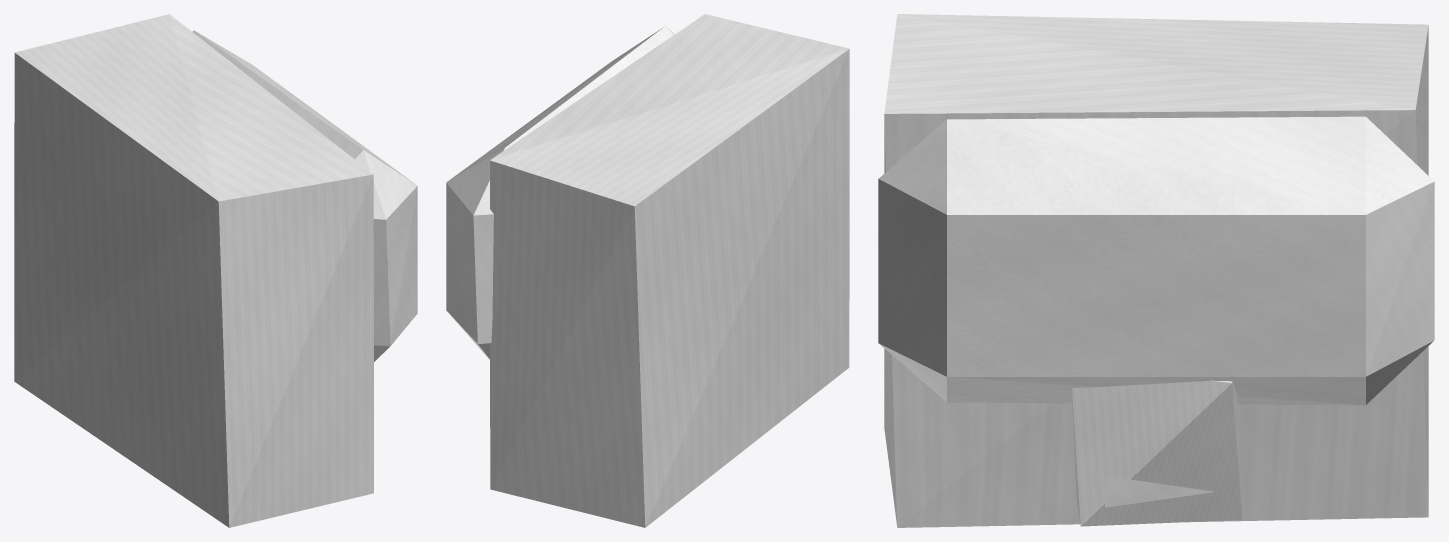
Rendered from Field_Medic_Medical_Pouch_R_ShadowProxy.glb.
The picture shows the model from 3 angles, left to right: view 1: azimuth 30°, elevation 25°; view 2: azimuth 150°, elevation 25°; view 3: azimuth 270°, elevation 25°; orthographic projection. The views are drawn at different scales.
Visible parts, largest first — view 1: Field_Medic_Medical_Pouch_R_ShadowProxy; view 2: Field_Medic_Medical_Pouch_R_ShadowProxy; view 3: Field_Medic_Medical_Pouch_R_ShadowProxy.
Part boxes in pixels (left/top/right/bottom): Field_Medic_Medical_Pouch_R_ShadowProxy: left=14, top=14, right=417, bottom=527; Field_Medic_Medical_Pouch_R_ShadowProxy: left=446, top=14, right=849, bottom=527; Field_Medic_Medical_Pouch_R_ShadowProxy: left=878, top=14, right=1434, bottom=527.
Size of the model in its own units: 0.0953 by 0.1342 by 0.1618.
3 materials, 3 textured.
